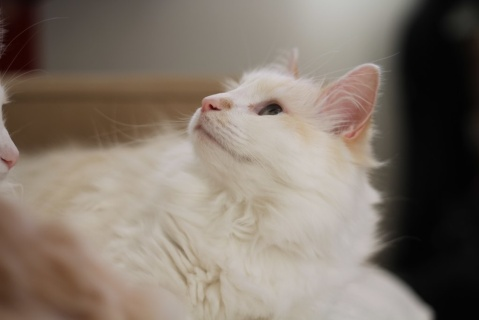Cat: (31, 46, 435, 320)
